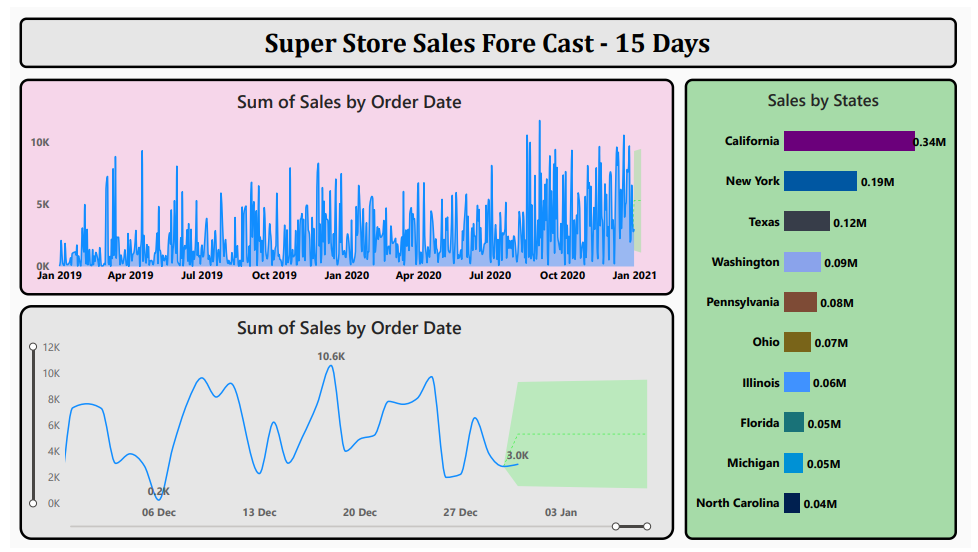

Layout of this report page (visuals, bound fields, positions):
{"tool":"powerbi","page":{"name":"Sales_Forecasting","canvas":[1920,1080],"ordinal":1},"visuals":[{"type":"lineChart","title":"Sum of Sales by Order Date","fields":{"Category":["SuperStores_Sales.Order Date"],"Y":["Sum(SuperStores_Sales.Sales)"]},"box":[19.3,143.4,1307.8,432.4],"z":0},{"type":"lineChart","fields":{"Category":["SuperStores_Sales.Order Date"],"Y":["Sum(SuperStores_Sales.Sales)"]},"box":[19.3,595.1,1307.8,468.8],"z":1},{"type":"barChart","title":"Sales by States","fields":{"Category":["SuperStores_Sales.State"],"Series":["SuperStores_Sales.State"],"Y":["Sum(SuperStores_Sales.Sales)"]},"box":[1348.5,143.4,543.7,920.4],"z":2},{"type":"textbox","box":[19.3,21.4,1872.9,100.6],"z":3}]}

Visuals, with their boxes in screenshot pixels (x1, y1, x2, y2), scaled from the page's 1920x1080 canvas onto the 978x552 screenshot:
"Sum of Sales by Order Date" lineChart: box(10, 73, 676, 294)
lineChart - SuperStores_Sales.Order Date x Sum(SuperStores_Sales.Sales): box(10, 304, 676, 544)
"Sales by States" barChart: box(687, 73, 964, 544)
textbox: box(10, 11, 964, 62)
